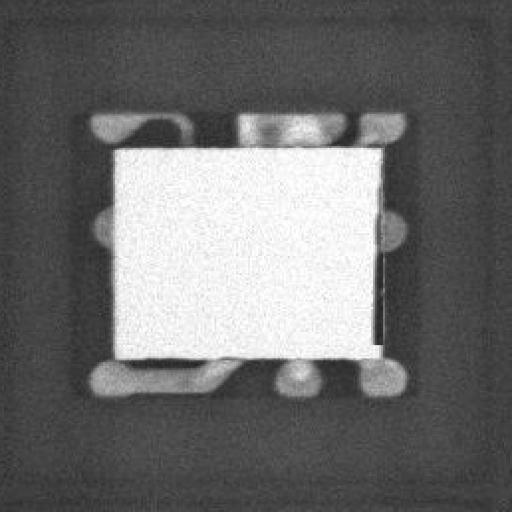DIE_BROKEN: (367, 216, 383, 349)
